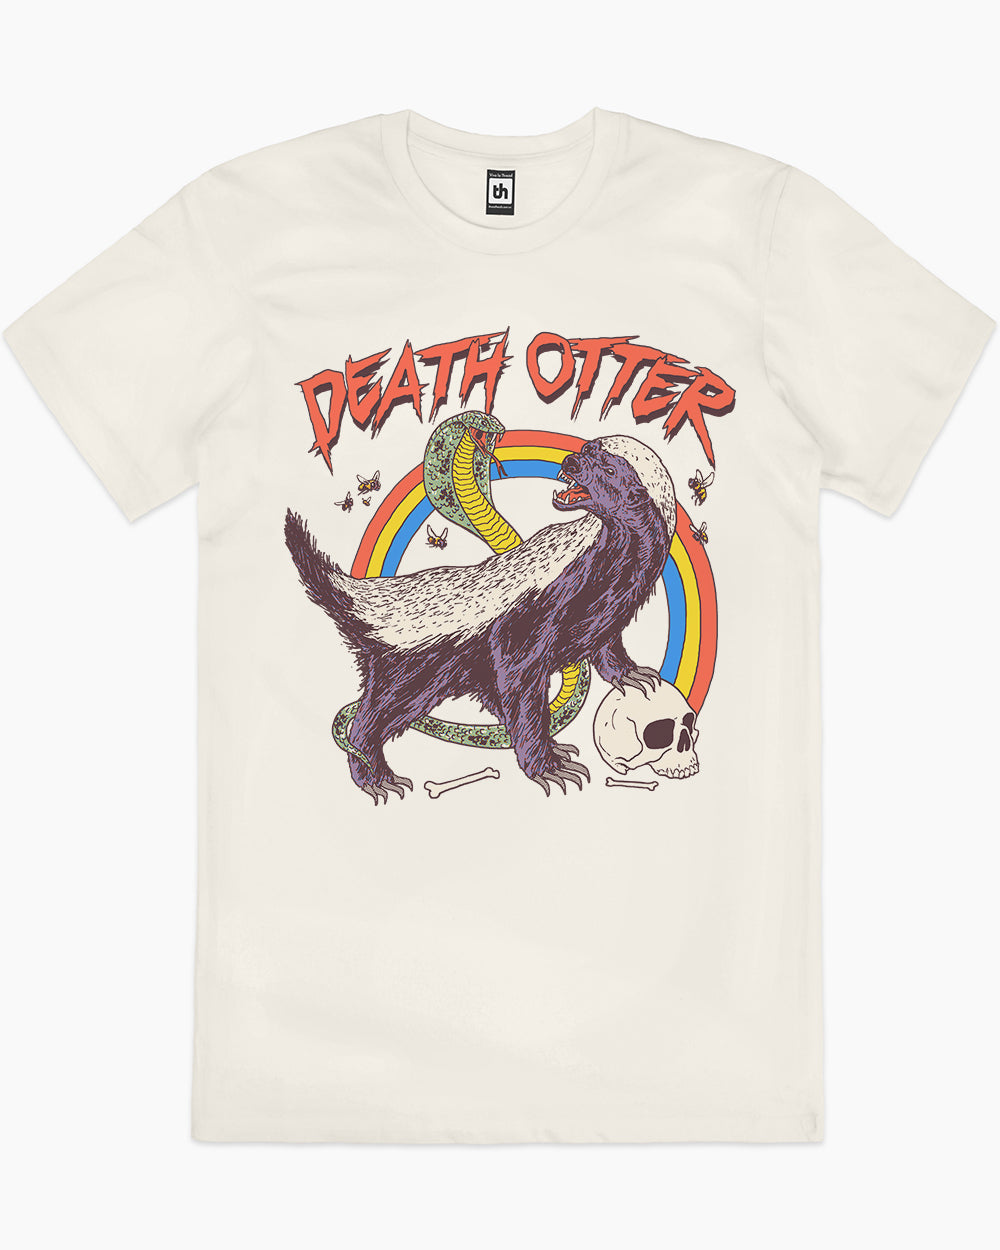design: (279, 320, 740, 809)
